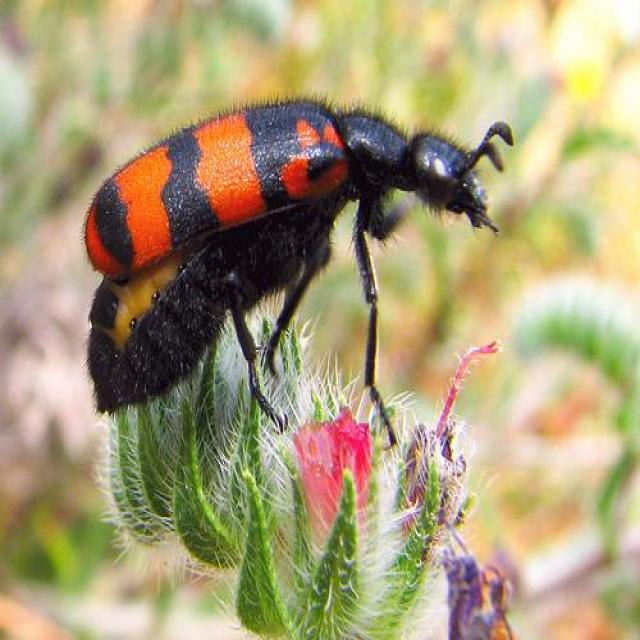BlisterBeetle-Adult-: (69, 88, 525, 460)
